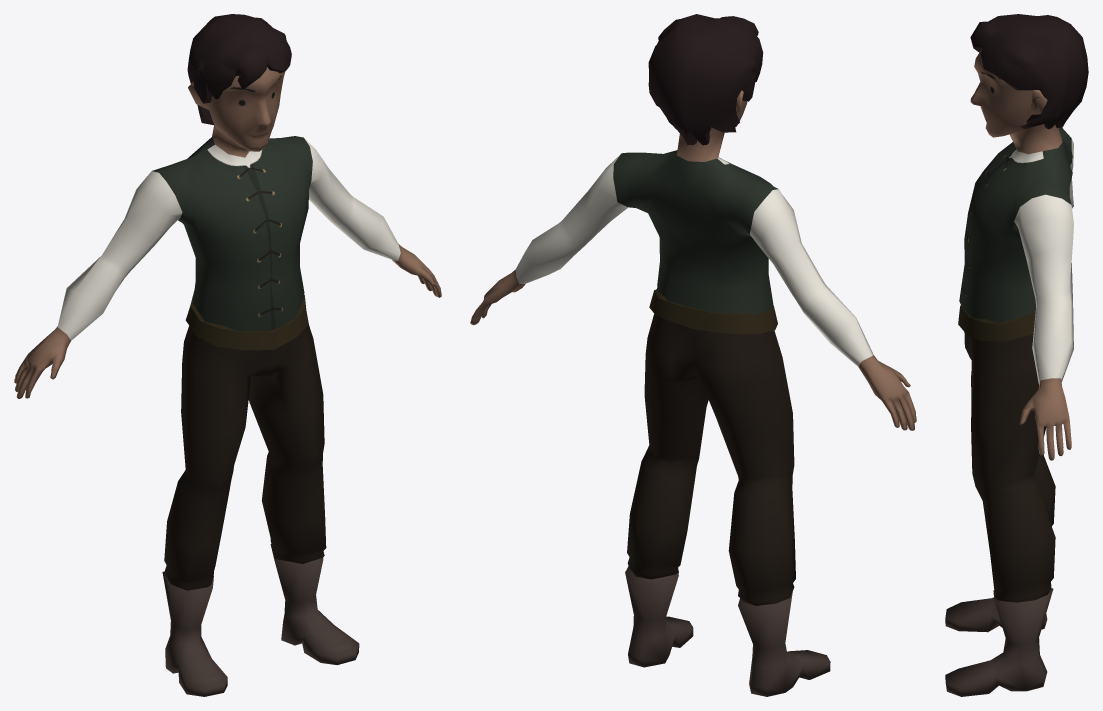
Rendered from man_commoner_1.FBX.
3 views of the same model, side by side, from view 1: azimuth 30°, elevation 25°; view 2: azimuth 150°, elevation 25°; view 3: azimuth 270°, elevation 25° (orthographic). The views are drawn at different scales.
Parts seen in each view (by area): view 1: man_commoner_1; view 2: man_commoner_1; view 3: man_commoner_1.
Part boxes in pixels (x1,y1,x2,y2): man_commoner_1: (14, 14, 441, 696); man_commoner_1: (470, 14, 916, 696); man_commoner_1: (945, 14, 1088, 696).
Bounding box in the file's own units: 49.33 × 70.05 × 14.29.
